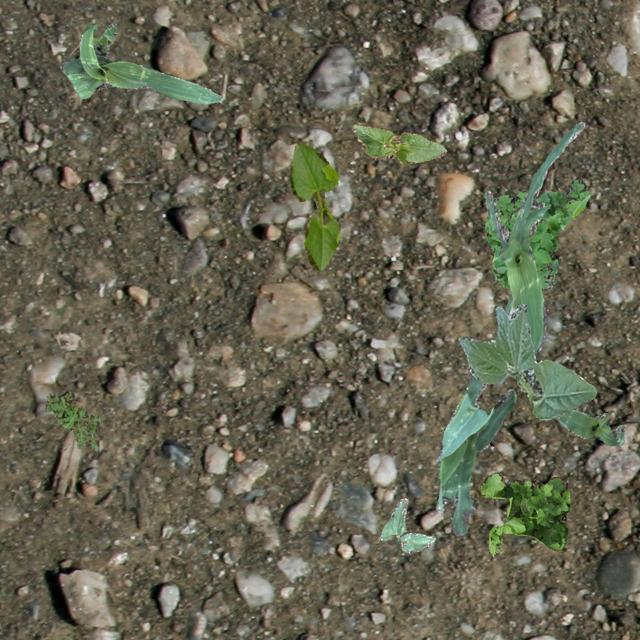crop: (484, 120, 584, 352), (456, 302, 596, 418), (434, 372, 516, 534), (59, 22, 220, 102), (290, 142, 338, 270), (352, 122, 446, 162), (378, 496, 434, 552), (556, 408, 624, 444)
weed: (484, 178, 590, 290), (478, 472, 570, 556), (46, 391, 100, 452)
